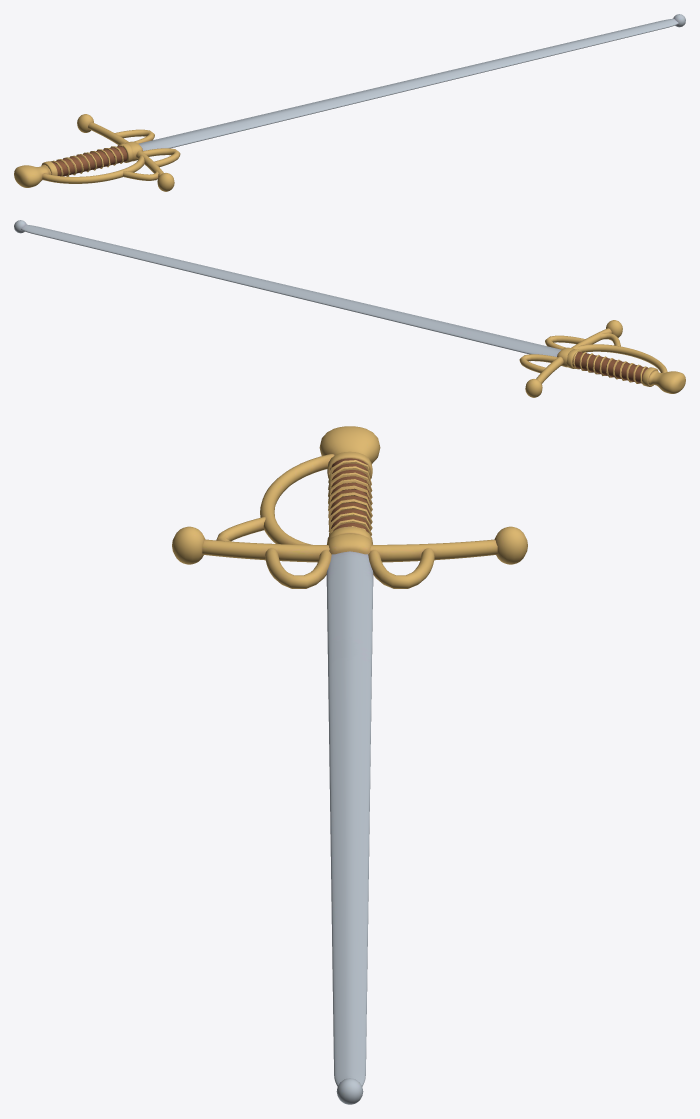
The model's file is rapier.glb.
3 views of the same model, one above another, from view 1: azimuth 30°, elevation 25°; view 2: azimuth 150°, elevation 25°; view 3: azimuth 270°, elevation 25° (orthographic). The views are drawn at different scales.
Visible parts, largest first — view 1: rapier_body; view 2: rapier_body; view 3: rapier_body.
Boxes of the visible parts, <box> form: rapier_body: <box>14,14,685,191</box>; rapier_body: <box>14,220,685,397</box>; rapier_body: <box>172,426,527,1104</box>.
Bounding box in the file's own units: 1.04 × 0.0275 × 0.2413.
Materials: 1 (1 with a texture image).
